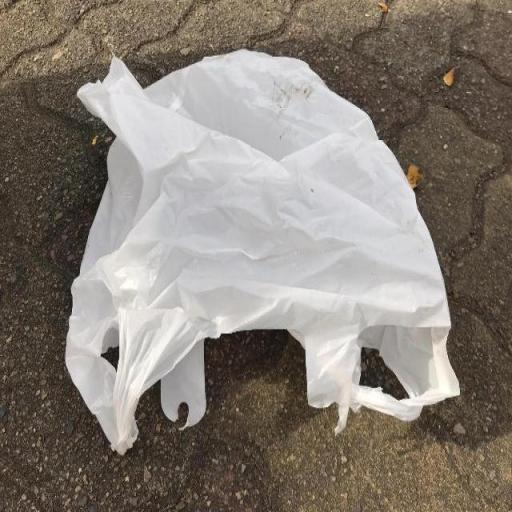plastic-bag: (58, 42, 464, 458)
